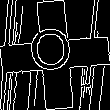O_S: (31, 28, 79, 82)
